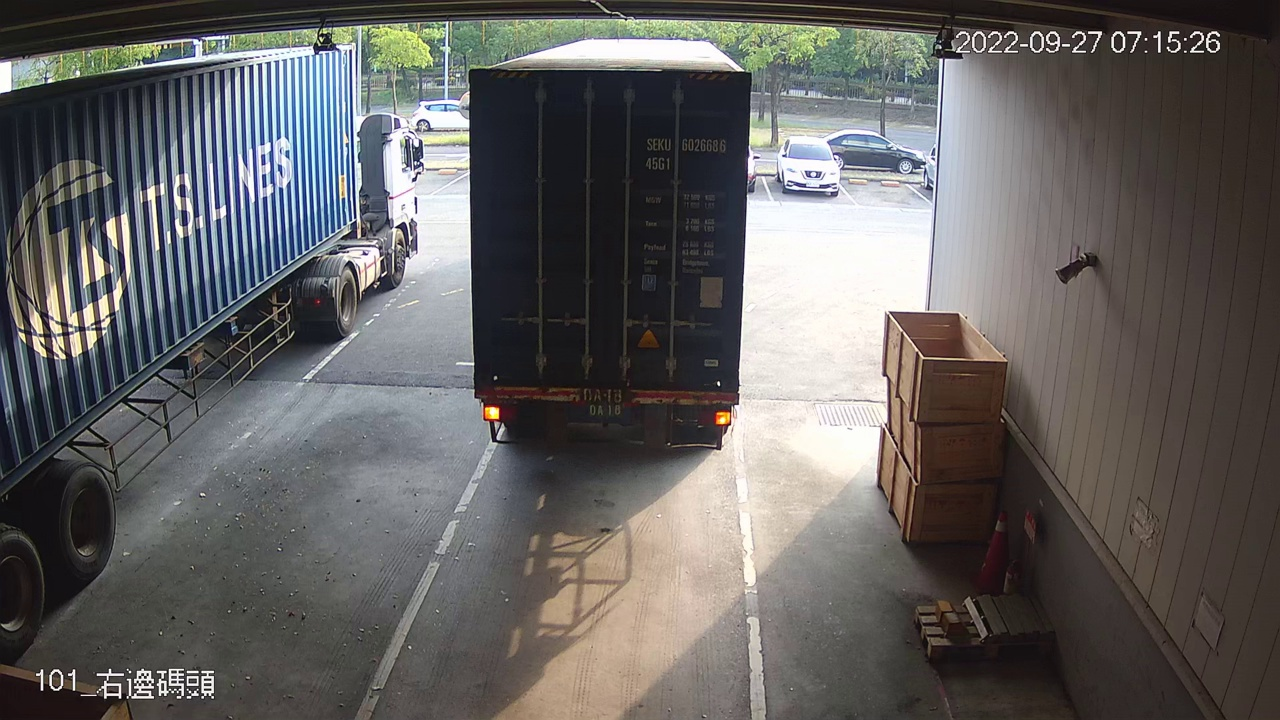container: (635, 132, 733, 179)
